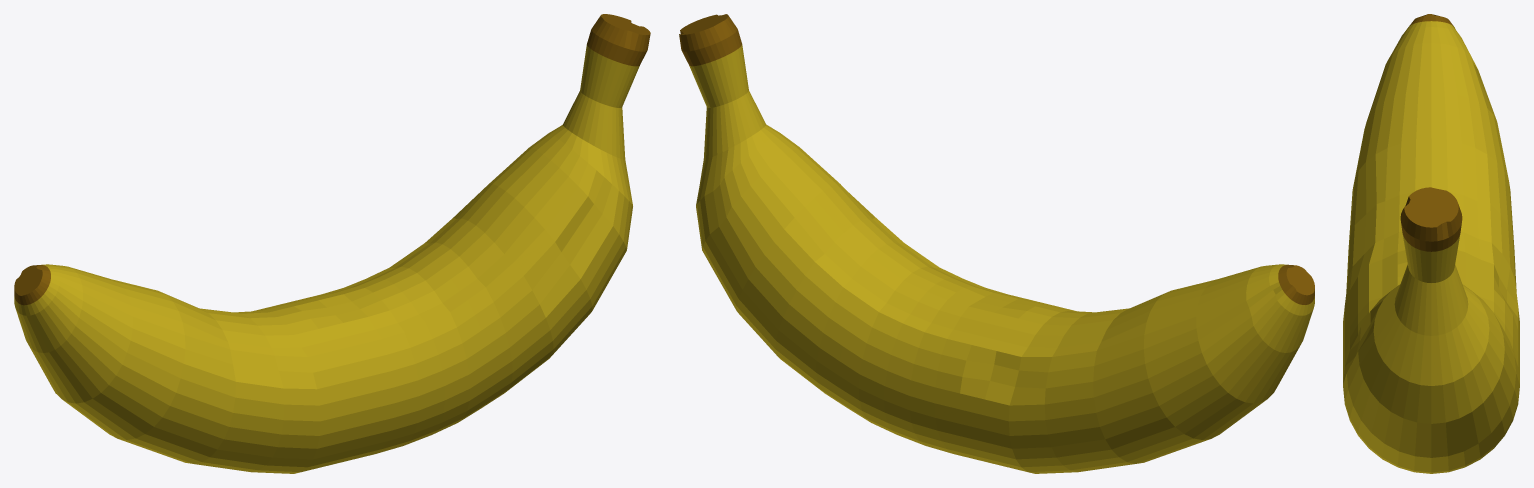
The model's file is lwbaa_banana.gltf.
3 renders of one model, left to right at view 1: azimuth 30°, elevation 25°; view 2: azimuth 150°, elevation 25°; view 3: azimuth 270°, elevation 25°, orthographic. The views are drawn at different scales.
Parts seen in each view (by area): view 1: Cylinder; view 2: Cylinder; view 3: Cylinder.
Part boxes in pixels (x1,y1,x2,y2): Cylinder: [14, 14, 650, 473]; Cylinder: [679, 14, 1314, 473]; Cylinder: [1343, 14, 1519, 473].
Size of the model in its own units: 0.8316 by 0.4641 by 0.1968.
